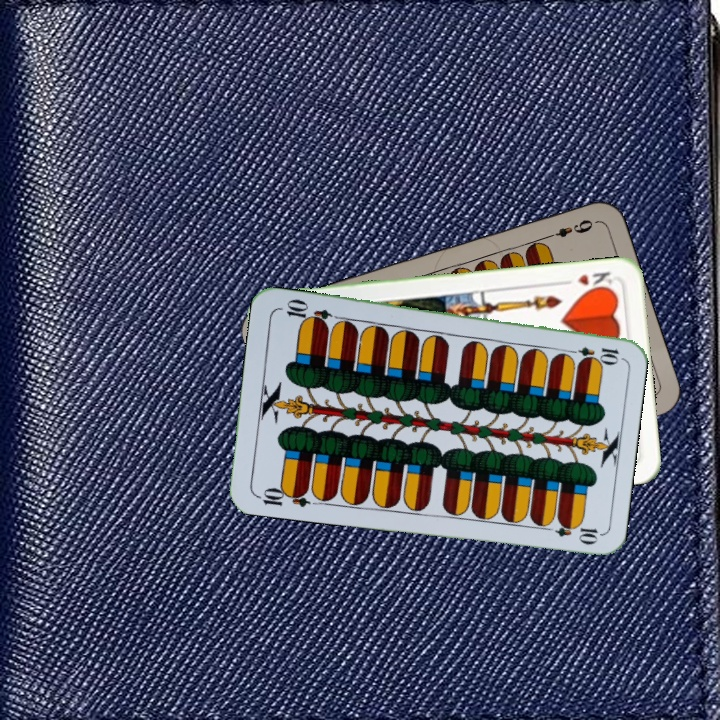E10: (253, 482, 312, 510), (562, 342, 621, 364)
E9: (541, 215, 599, 242)
HK: (573, 268, 616, 294)
